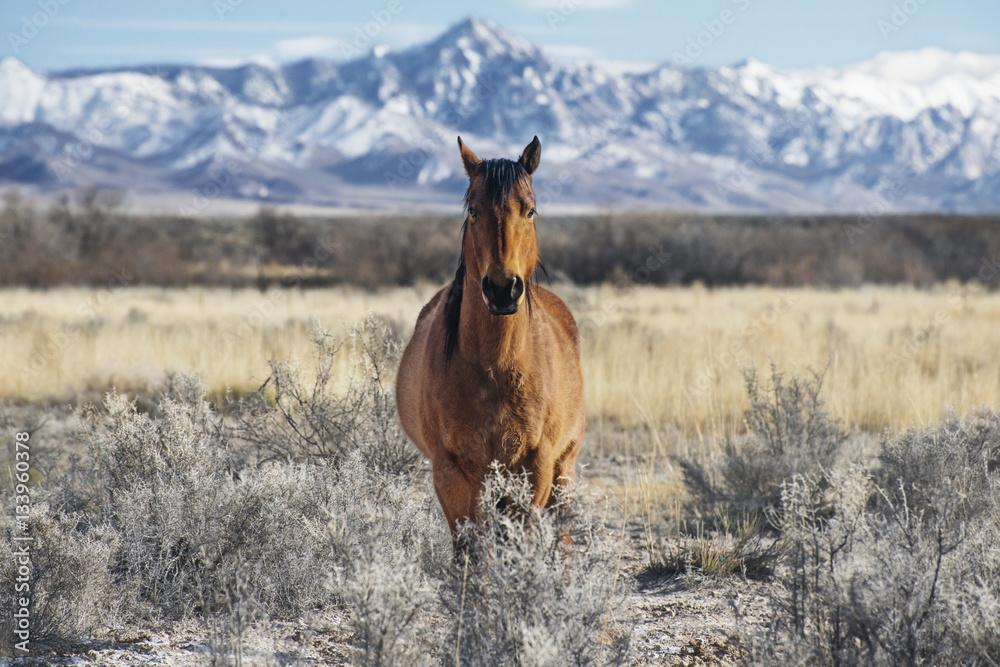horse: (389, 128, 591, 578)
